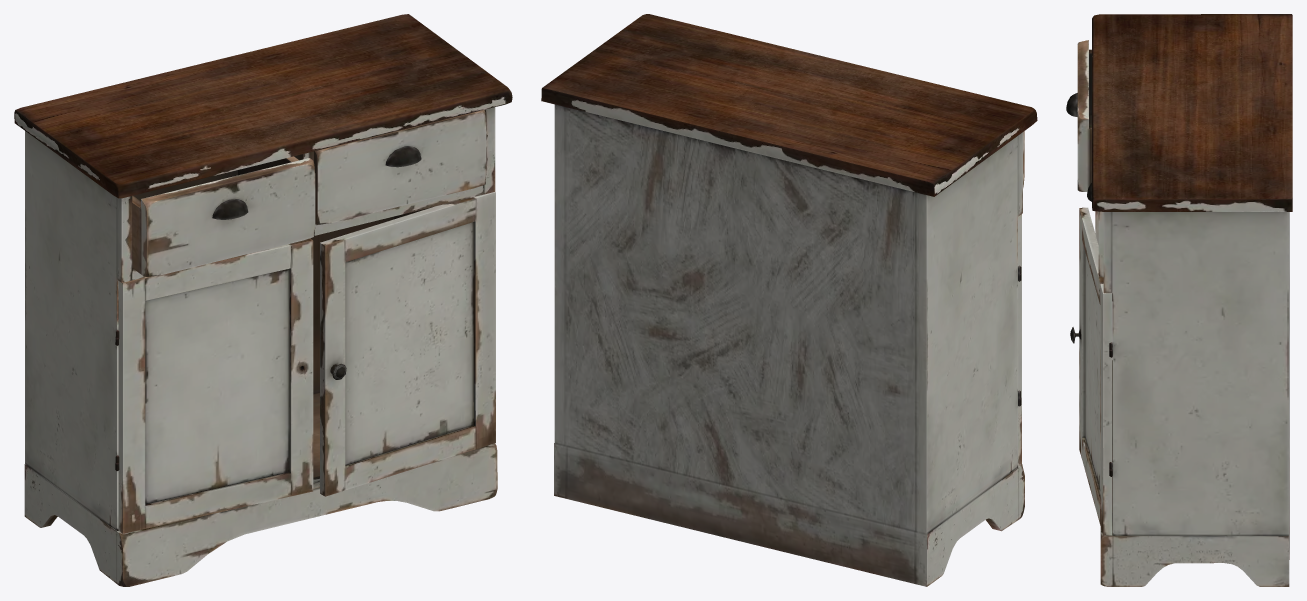
Rendered from painted_wooden_cabinet.glb.
3 views of the same model, side by side, from view 1: azimuth 30°, elevation 25°; view 2: azimuth 150°, elevation 25°; view 3: azimuth 270°, elevation 25° (orthographic). The views are drawn at different scales.
Parts seen in each view (by area): view 1: painted_wooden_cabinet; view 2: painted_wooden_cabinet; view 3: painted_wooden_cabinet.
Part boxes in pixels (left/top/right/bottom): painted_wooden_cabinet: left=14, top=14, right=512, bottom=586; painted_wooden_cabinet: left=541, top=14, right=1037, bottom=586; painted_wooden_cabinet: left=1066, top=14, right=1292, bottom=586.
Bounding box in the file's own units: 1.19 × 1.18 × 0.616.
Materials: 1 (1 with a texture image).
